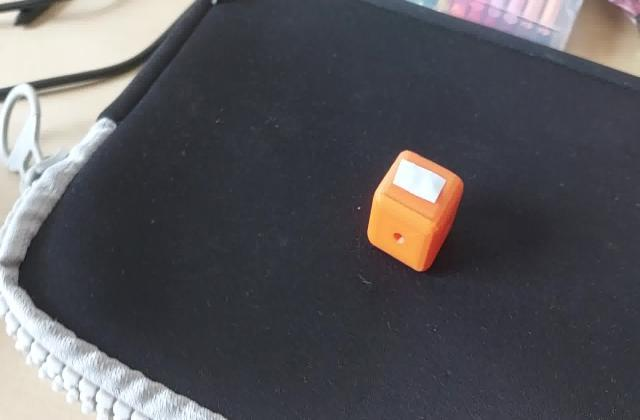sticker: (364, 146, 470, 278)
white: (398, 168, 451, 206)
